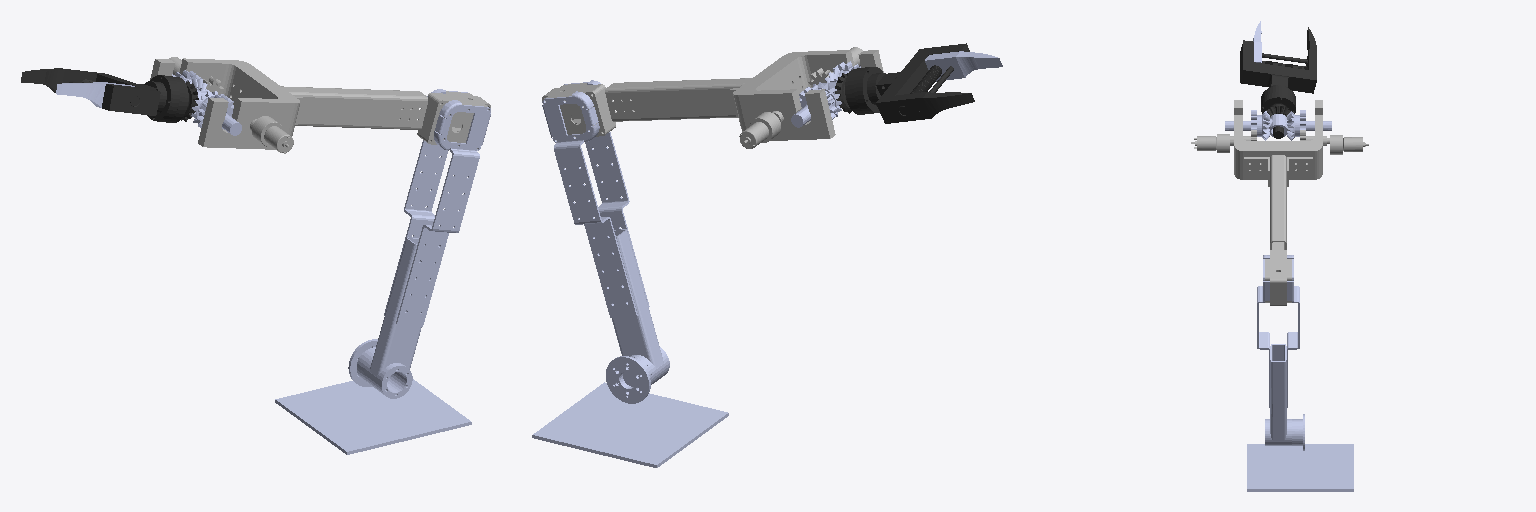
URDF robot description (robotic_arm_latest):
<?xml version="1.0" encoding="utf-8"?>
<!-- This URDF was automatically created by SolidWorks to URDF Exporter! Originally created by [author] ([email redacted]) 
     Commit Version: 1.6.0-4-g7f85cfe  Build Version: 1.6.7995.38578
     For more information, please see http://wiki.ros.org/sw_urdf_exporter -->
<robot
  name="robotic_arm_latest">
  <link
    name="base_link">
    <inertial>
      <origin
        xyz="-0.596623350316015 1.36144047328746 0.811302417182611"
        rpy="0 0 0" />
      <mass
        value="0.2" />
      <inertia
        ixx="0.000667083333333335"
        ixy="-1.97686196116523E-20"
        ixz="1.37561468949839E-19"
        iyy="0.000667083333333334"
        iyz="-1.61398880959847E-19"
        izz="0.00133333333333334" />
    </inertial>
    <visual>
      <origin
        xyz="0 0 0"
        rpy="0 0 0" />
      <geometry>
        <mesh
          filename="package://robotic_arm_latest/meshes/base_link.STL" />
      </geometry>
      <material
        name="">
        <color
          rgba="0.792156862745098 0.819607843137255 0.933333333333333 1" />
      </material>
    </visual>
    <collision>
      <origin
        xyz="0 0 0"
        rpy="0 0 0" />
      <geometry>
        <mesh
          filename="package://robotic_arm_latest/meshes/base_link.STL" />
      </geometry>
    </collision>
  </link>
  <link
    name="base_plate">
    <inertial>
      <origin
        xyz="-0.595764914356287 1.37597572265634 0.862083950586718"
        rpy="0 0 0" />
      <mass
        value="0.793207196193239" />
      <inertia
        ixx="0.00101513908272272"
        ixy="-8.17766792376461E-08"
        ixz="-2.35461420832051E-11"
        iyy="0.00241020779359977"
        iyz="-6.78125808251543E-05"
        izz="0.001593319010474" />
    </inertial>
    <visual>
      <origin
        xyz="0 0 0"
        rpy="0 0 0" />
      <geometry>
        <mesh
          filename="package://robotic_arm_latest/meshes/base_plate.STL" />
      </geometry>
      <material
        name="">
        <color
          rgba="0.792156862745098 0.819607843137255 0.933333333333333 1" />
      </material>
    </visual>
    <collision>
      <origin
        xyz="0 0 0"
        rpy="0 0 0" />
      <geometry>
        <mesh
          filename="package://robotic_arm_latest/meshes/base_plate.STL" />
      </geometry>
    </collision>
  </link>
  <joint
    name="base_plate"
    type="fixed">
    <origin
      xyz="0 0 0"
      rpy="0 0 0" />
    <parent
      link="base_link" />
    <child
      link="base_plate" />
    <axis
      xyz="0 0 0" />
  </joint>
  <link
    name="elbow_1_link">
    <inertial>
      <origin
        xyz="0.0609039892041688 0.00694425574999835 0.113339197617521"
        rpy="0 0 0" />
      <mass
        value="0.276916441080018" />
      <inertia
        ixx="0.00116376120130321"
        ixy="3.56598018289224E-10"
        ixz="-0.00030375346142304"
        iyy="0.00129899325568038"
        iyz="6.29129144555778E-10"
        izz="0.000200236655738466" />
    </inertial>
    <visual>
      <origin
        xyz="0 0 0"
        rpy="0 0 0" />
      <geometry>
        <mesh
          filename="package://robotic_arm_latest/meshes/elbow_1_link.STL" />
      </geometry>
      <material
        name="">
        <color
          rgba="0.792156862745098 0.819607843137255 0.933333333333333 1" />
      </material>
    </visual>
    <collision>
      <origin
        xyz="0 0 0"
        rpy="0 0 0" />
      <geometry>
        <mesh
          filename="package://robotic_arm_latest/meshes/elbow_1_link.STL" />
      </geometry>
    </collision>
  </link>
  <joint
    name="elbow_lower_joint"
    type="revolute">
    <origin
      xyz="-0.62047937122337 1.32048237733213 0.891278396480797"
      rpy="0 0 0" />
    <parent
      link="base_plate" />
    <child
      link="elbow_1_link" />
    <axis
      xyz="0 1 0" />
    <limit
      lower="-1.57"
      upper="1.57"
      effort="0"
      velocity="5" />
  </joint>
  <link
    name="elbow_2_link">
    <inertial>
      <origin
        xyz="-0.264104918269797 0.0442939371405733 0.08743971396481"
        rpy="0 0 0" />
      <mass
        value="0.957043893758348" />
      <inertia
        ixx="0.0023688649401105"
        ixy="9.13542227378335E-08"
        ixz="0.00028126705593897"
        iyy="0.00190516025893794"
        iyz="3.2774145857007E-08"
        izz="0.00346067097109671" />
    </inertial>
    <visual>
      <origin
        xyz="0 0 0"
        rpy="0 0 0" />
      <geometry>
        <mesh
          filename="package://robotic_arm_latest/meshes/elbow_2_link.STL" />
      </geometry>
      <material
        name="">
        <color
          rgba="0.749019607843137 0.749019607843137 0.749019607843137 1" />
      </material>
    </visual>
    <collision>
      <origin
        xyz="0 0 0"
        rpy="0 0 0" />
      <geometry>
        <mesh
          filename="package://robotic_arm_latest/meshes/elbow_2_link.STL" />
      </geometry>
    </collision>
  </link>
  <joint
    name="elbow_upper_joint"
    type="revolute">
    <origin
      xyz="0.119445271870781 -0.0439999999999932 0.356030785120101"
      rpy="0 0 0" />
    <parent
      link="elbow_1_link" />
    <child
      link="elbow_2_link" />
    <axis
      xyz="0 -1 0" />
    <limit
      lower="-1.57"
      upper="1.57"
      effort="0"
      velocity="5" />
  </joint>
  <link
    name="gripper_vertical_link">
    <inertial>
      <origin
        xyz="3.46846551479985E-10 1.8065209328455E-09 1.10295994559806E-10"
        rpy="0 0 0" />
      <mass
        value="0.139635957949731" />
      <inertia
        ixx="0.000235368163106123"
        ixy="6.76004679920518E-12"
        ixz="-2.0201189976093E-07"
        iyy="3.44266765369421E-05"
        iyz="1.74828511822117E-11"
        izz="0.000234854390148714" />
    </inertial>
    <visual>
      <origin
        xyz="0 0 0"
        rpy="0 0 0" />
      <geometry>
        <mesh
          filename="package://robotic_arm_latest/meshes/gripper_vertical_link.STL" />
      </geometry>
      <material
        name="">
        <color
          rgba="0.792156862745098 0.819607843137255 0.933333333333333 1" />
      </material>
    </visual>
    <collision>
      <origin
        xyz="0 0 0"
        rpy="0 0 0" />
      <geometry>
        <mesh
          filename="package://robotic_arm_latest/meshes/gripper_vertical_link.STL" />
      </geometry>
    </collision>
  </link>
  <joint
    name="gripper_vertical_joint"
    type="revolute">
    <origin
      xyz="-0.397553465014356 0.0439999999999956 0.125592042899738"
      rpy="0 0 0" />
    <parent
      link="elbow_2_link" />
    <child
      link="gripper_vertical_link" />
    <axis
      xyz="0 1 0" />
    <limit
      lower="-1.57"
      upper="1.57"
      effort="0"
      velocity="5" />
  </joint>
  <link
    name="gripper_rotate_link">
    <inertial>
      <origin
        xyz="0.0488351748278368 -0.00112028972126033 0.0167555541510025"
        rpy="0 0 0" />
      <mass
        value="0.420865159544569" />
      <inertia
        ixx="0.000636085038061086"
        ixy="8.40691742720777E-05"
        ixz="-4.90713238519687E-05"
        iyy="0.000326161679796299"
        iyz="-7.17545790218538E-05"
        izz="0.000787867546648645" />
    </inertial>
    <visual>
      <origin
        xyz="0 0 0"
        rpy="0 0 0" />
      <geometry>
        <mesh
          filename="package://robotic_arm_latest/meshes/gripper_rotate_link.STL" />
      </geometry>
      <material
        name="">
        <color
          rgba="0.250980392156863 0.250980392156863 0.250980392156863 1" />
      </material>
    </visual>
    <collision>
      <origin
        xyz="0 0 0"
        rpy="0 0 0" />
      <geometry>
        <mesh
          filename="package://robotic_arm_latest/meshes/gripper_rotate_link.STL" />
      </geometry>
    </collision>
  </link>
  <joint
    name="gripper_rotate_joint"
    type="revolute">
    <origin
      xyz="-0.0544074658851439 0 0.0188307358294317"
      rpy="0 0 3.14159265358979" />
    <parent
      link="gripper_vertical_link" />
    <child
      link="gripper_rotate_link" />
    <axis
      xyz="-0.945000022307154 0 -0.327070264376753" />
    <limit
      lower="-3.14"
      upper="3.14"
      effort="0"
      velocity="3.14" />
  </joint>
  <link
    name="gripper_link">
    <inertial>
      <origin
        xyz="-0.0240000262091284 -0.00292838190880929 -0.00901527736488239"
        rpy="0 0 0" />
      <mass
        value="0.0388186325732479" />
      <inertia
        ixx="7.85203525701937E-06"
        ixy="7.23505650461122E-07"
        ixz="9.44471963923123E-06"
        iyy="3.50706548314561E-05"
        iyz="-8.48950975532581E-07"
        izz="2.88025817571703E-05" />
    </inertial>
    <visual>
      <origin
        xyz="0 0 0"
        rpy="0 0 0" />
      <geometry>
        <mesh
          filename="package://robotic_arm_latest/meshes/gripper_link.STL" />
      </geometry>
      <material
        name="">
        <color
          rgba="0.792156862745098 0.819607843137255 0.933333333333333 1" />
      </material>
    </visual>
    <collision>
      <origin
        xyz="0 0 0"
        rpy="0 0 0" />
      <geometry>
        <mesh
          filename="package://robotic_arm_latest/meshes/gripper_link.STL" />
      </geometry>
    </collision>
  </link>
  <joint
    name="end_joint"
    type="prismatic">
    <origin
      xyz="0.098972552896218 0.0380569897548113 0.0610601011691811"
      rpy="0 0 3.14159265358979" />
    <parent
      link="gripper_rotate_link" />
    <child
      link="gripper_link" />
    <axis
      xyz="-0.0631974792297708 0.981154842451859 -0.18259587550728" />
    <limit
      lower="0"
      upper="0.088"
      effort="0"
      velocity="3" />
  </joint>
</robot>

--- What the picture shows (computed from the rendered views, not written in the file) ---
The picture shows the robot from 3 angles, left to right: view 1: azimuth 30°, elevation 25°; view 2: azimuth 150°, elevation 25°; view 3: azimuth 270°, elevation 25°; orthographic projection.
Robot: robotic_arm_latest — 7 links, 6 joints (4 revolute, 1 prismatic, 1 fixed); root link base_link; default pose: every joint at zero.
Visible links, largest first — view 1: elbow_2_link, elbow_1_link, base_link, gripper_rotate_link, gripper_vertical_link, gripper_link; view 2: elbow_2_link, elbow_1_link, base_link, gripper_rotate_link, gripper_link, gripper_vertical_link; view 3: elbow_2_link, base_link, elbow_1_link, gripper_rotate_link, gripper_vertical_link.
Boxes of the visible links, x1=… form: elbow_2_link: x1=150, y1=57, x2=490, y2=153; elbow_1_link: x1=348, y1=89, x2=490, y2=398; base_link: x1=275, y1=379, x2=471, y2=454; gripper_rotate_link: x1=21, y1=68, x2=198, y2=122; gripper_vertical_link: x1=172, y1=70, x2=241, y2=135; gripper_link: x1=56, y1=82, x2=134, y2=107; elbow_2_link: x1=542, y1=47, x2=883, y2=148; elbow_1_link: x1=542, y1=80, x2=669, y2=403; base_link: x1=532, y1=382, x2=728, y2=467; gripper_rotate_link: x1=835, y1=43, x2=974, y2=123; gripper_link: x1=925, y1=51, x2=1002, y2=81; gripper_vertical_link: x1=791, y1=61, x2=860, y2=127; elbow_2_link: x1=1191, y1=100, x2=1368, y2=305; base_link: x1=1247, y1=444, x2=1353, y2=491; elbow_1_link: x1=1257, y1=255, x2=1304, y2=450; gripper_rotate_link: x1=1240, y1=27, x2=1316, y2=138; gripper_vertical_link: x1=1225, y1=110, x2=1331, y2=140.
Size in the robot's own frame: 0.7182 by 0.3323 by 0.6649 metres.
6 mesh visuals loaded from 7 distinct referenced files (6 binary STL); not drawn: 1 (reference not matched to a file when rendering).